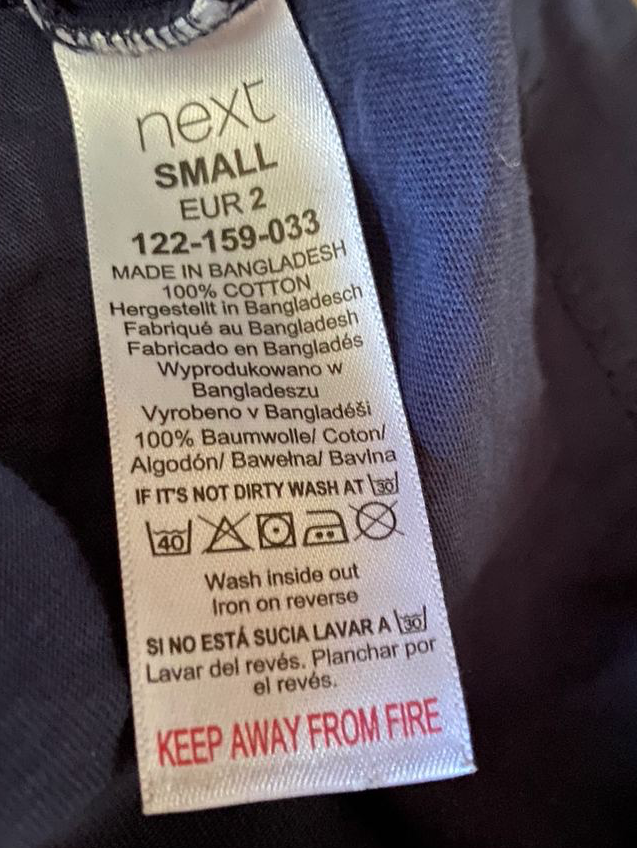do_not_bleach: (198, 507, 255, 557)
do_not_dry_clean: (349, 494, 408, 548)
ironing_at_med_temp: (300, 504, 351, 549)
tumble_drying_low_temps: (253, 510, 300, 551)
wash_at_or_below_30: (362, 464, 407, 498), (391, 603, 432, 638)
wash_at_or_below_40: (142, 517, 195, 562)
